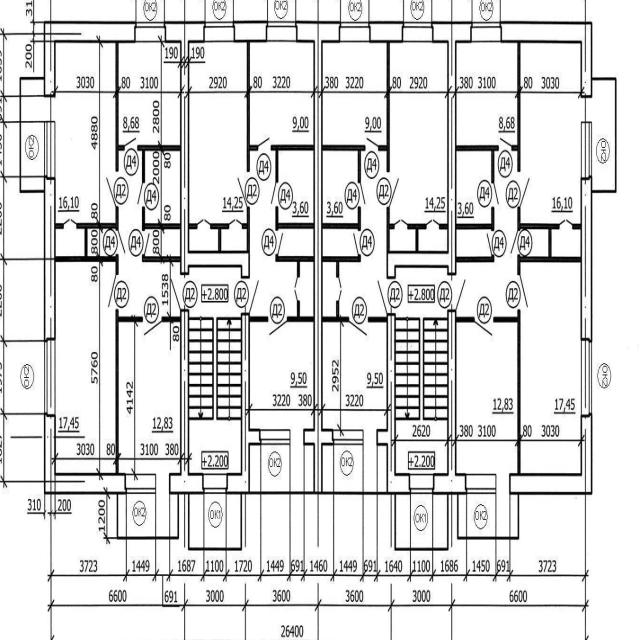Corridors: (119, 151, 180, 317), (456, 152, 517, 316), (339, 151, 386, 316), (250, 151, 296, 316), (322, 445, 386, 493), (250, 445, 313, 493), (395, 495, 448, 550), (189, 494, 242, 549), (20, 77, 44, 192), (117, 494, 179, 538), (592, 78, 616, 191), (458, 495, 518, 538), (323, 151, 357, 223), (457, 151, 491, 222), (279, 151, 313, 221), (146, 151, 179, 223), (395, 269, 447, 311), (189, 267, 241, 309), (322, 230, 358, 256), (279, 230, 313, 256), (457, 230, 491, 256), (146, 230, 180, 255), (520, 230, 548, 256), (300, 262, 313, 316), (88, 229, 115, 255), (552, 231, 580, 256), (56, 230, 84, 255), (323, 263, 336, 315), (189, 229, 218, 250), (419, 230, 446, 251), (390, 230, 415, 251), (221, 229, 246, 250)
Doors: (376, 278, 395, 314), (170, 275, 189, 311), (241, 277, 260, 313), (448, 275, 466, 310), (517, 171, 531, 209), (235, 172, 250, 207), (105, 171, 119, 208), (517, 273, 530, 309), (387, 172, 400, 207), (107, 273, 119, 310), (142, 317, 162, 337), (474, 316, 493, 337), (155, 474, 169, 494), (44, 96, 55, 121), (581, 97, 592, 121), (116, 229, 126, 255), (510, 229, 520, 255), (497, 473, 509, 493), (136, 182, 145, 208), (142, 230, 151, 256), (352, 231, 361, 256), (363, 430, 377, 446), (358, 182, 367, 206), (290, 430, 304, 445), (270, 182, 278, 208), (499, 135, 512, 151), (492, 182, 500, 207), (425, 216, 439, 230), (365, 137, 379, 151), (559, 217, 573, 231), (196, 216, 211, 229), (276, 231, 284, 255), (486, 231, 494, 255), (394, 217, 408, 230), (258, 136, 271, 150), (228, 216, 242, 229), (124, 136, 138, 149), (336, 276, 343, 302), (63, 216, 77, 229), (293, 276, 300, 301)
LBwalls: (165, 21, 250, 279), (387, 22, 472, 280), (296, 21, 341, 493), (44, 20, 136, 97), (500, 21, 593, 97), (509, 413, 593, 495), (43, 414, 127, 495), (224, 312, 261, 494), (376, 313, 411, 495), (433, 309, 467, 494), (581, 176, 593, 342), (44, 177, 56, 342), (180, 309, 189, 473), (169, 473, 204, 494), (234, 21, 267, 43), (370, 22, 404, 43)
Offices: (56, 262, 115, 473), (521, 263, 580, 473), (56, 42, 115, 223), (521, 42, 580, 223), (189, 43, 246, 222), (391, 44, 447, 223), (119, 323, 180, 474), (457, 323, 517, 472), (322, 322, 387, 430), (250, 323, 314, 428), (250, 42, 313, 144), (323, 43, 386, 144), (119, 43, 180, 144), (457, 43, 517, 144)
Stairs: (189, 309, 241, 473), (396, 313, 447, 473)
Walls: (493, 309, 521, 474), (115, 309, 143, 474), (517, 205, 581, 276), (55, 206, 119, 275), (322, 145, 367, 184), (246, 42, 259, 172), (137, 144, 180, 183), (270, 145, 314, 183), (457, 145, 499, 184), (378, 43, 390, 174), (511, 42, 521, 173), (115, 42, 125, 172), (275, 205, 313, 232), (142, 206, 180, 232), (275, 253, 314, 278), (322, 206, 361, 231), (457, 206, 495, 230), (209, 223, 229, 252), (407, 224, 427, 252), (456, 252, 495, 263), (386, 206, 395, 251), (241, 206, 250, 251), (141, 256, 180, 262), (250, 316, 269, 323), (367, 317, 386, 323), (456, 317, 475, 323), (161, 317, 180, 322), (572, 223, 580, 230), (439, 223, 447, 230), (56, 223, 64, 230), (189, 223, 197, 229)
Windows: (581, 340, 592, 415), (45, 340, 56, 414), (135, 22, 166, 43), (204, 22, 235, 43), (339, 22, 370, 43), (402, 22, 433, 43), (471, 22, 501, 43), (581, 121, 592, 178), (125, 474, 156, 494), (266, 21, 297, 41), (466, 474, 496, 494), (45, 120, 55, 179), (333, 429, 364, 445), (260, 429, 290, 445), (203, 474, 227, 494), (409, 474, 434, 493)
